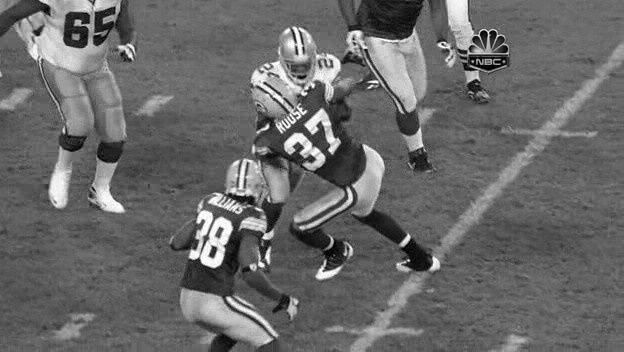person: (281, 35, 319, 83), (280, 35, 318, 83), (282, 35, 320, 83), (281, 34, 319, 82), (281, 36, 319, 84)
target_negative: (273, 223, 573, 341), (413, 144, 582, 308), (570, 274, 617, 346), (507, 249, 565, 278), (427, 337, 509, 346), (598, 238, 606, 298)
